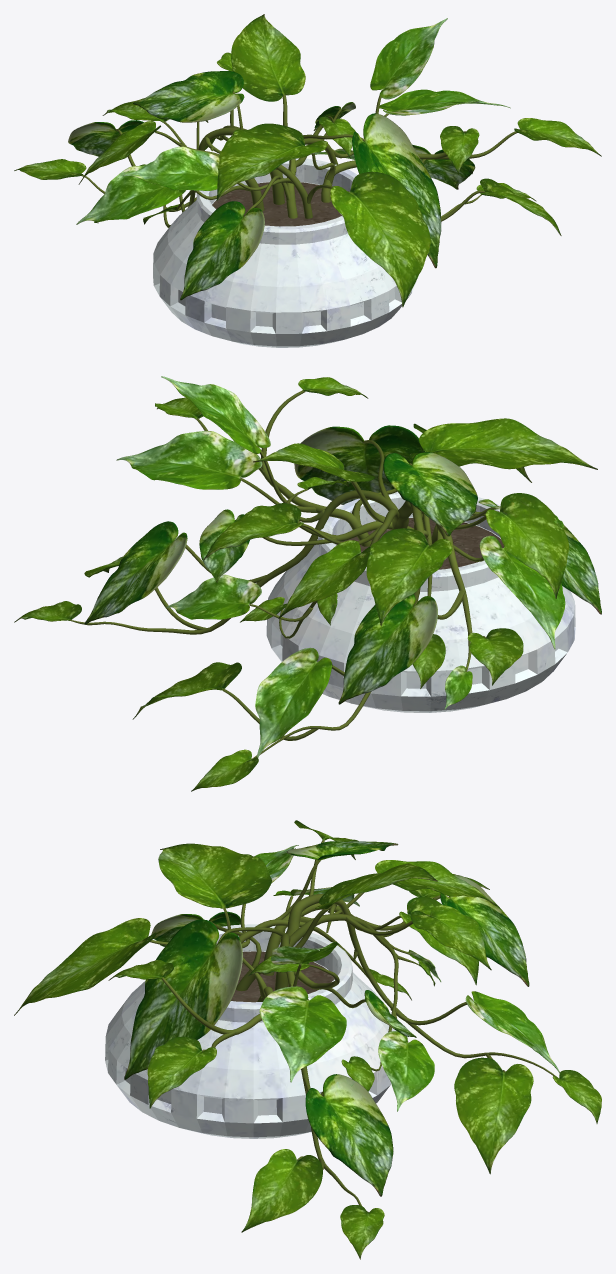
Rendered from potho.glb.
3 renders of one model, top to bottom at view 1: azimuth 30°, elevation 25°; view 2: azimuth 150°, elevation 25°; view 3: azimuth 270°, elevation 25°, orthographic. The views are drawn at different scales.
Visible parts, largest first — view 1: Plane.005, Circle, IVY_Curve.004; view 2: Plane.005, Circle, IVY_Curve.004; view 3: Plane.005, Circle, IVY_Curve.004.
Part boxes in pixels (bbox=[...]): Plane.005: bbox=[14, 14, 601, 307]; Circle: bbox=[153, 158, 416, 347]; IVY_Curve.004: bbox=[81, 90, 517, 227]; Plane.005: bbox=[14, 376, 601, 791]; Circle: bbox=[266, 491, 575, 712]; IVY_Curve.004: bbox=[69, 389, 502, 759]; Plane.005: bbox=[14, 820, 601, 1259]; Circle: bbox=[105, 924, 395, 1138]; IVY_Curve.004: bbox=[150, 840, 559, 1212].
Bounding box in the file's own units: 0.5003 × 0.2334 × 0.4815.
Materials: 4 (4 with a texture image).
